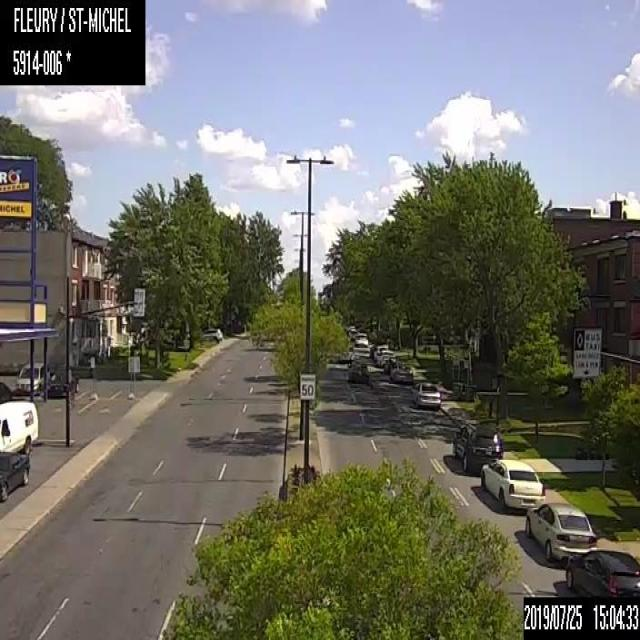vehicle: (522, 498, 596, 562), (478, 455, 546, 510), (563, 548, 639, 596), (448, 423, 503, 472), (0, 399, 39, 453), (0, 452, 31, 504), (15, 359, 45, 395), (45, 366, 77, 398), (411, 380, 441, 409), (389, 361, 415, 383), (347, 359, 368, 384), (200, 327, 224, 343), (354, 332, 368, 347)
